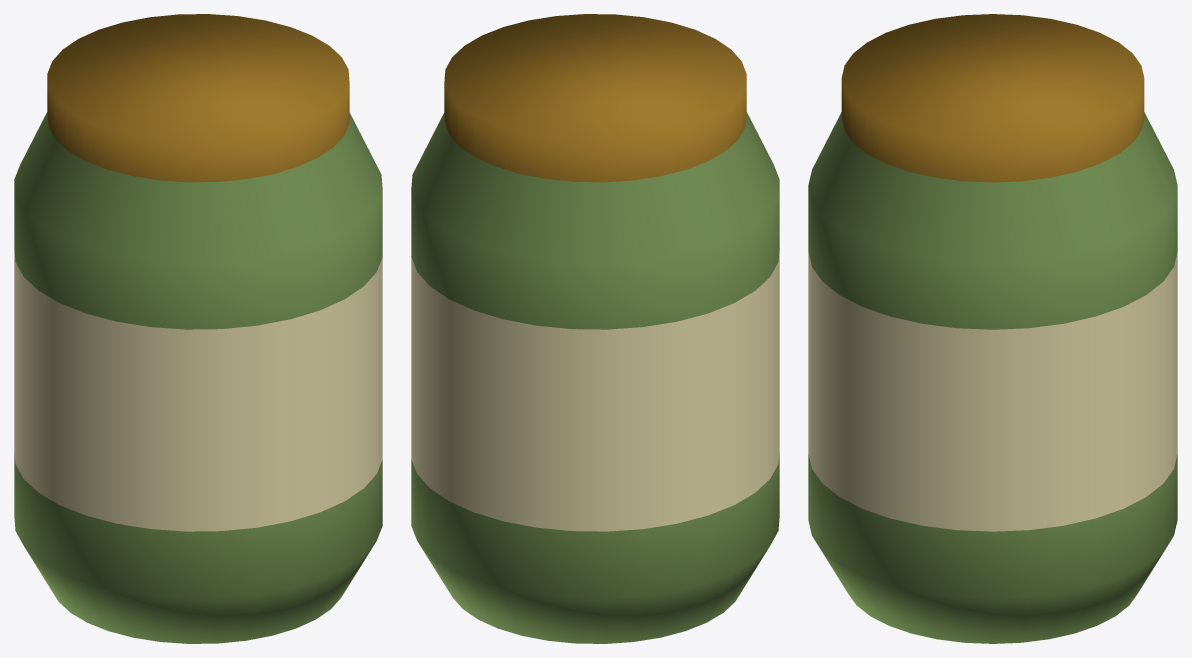
File: pickles.fbx
The picture shows the model from 3 angles, left to right: view 1: azimuth 30°, elevation 25°; view 2: azimuth 150°, elevation 25°; view 3: azimuth 270°, elevation 25°; orthographic projection.
Parts seen in each view (by area): view 1: Cylinder; view 2: Cylinder; view 3: Cylinder.
Boxes of the visible parts, left/top/right/bottom form: Cylinder: left=14, top=14, right=382, bottom=643; Cylinder: left=411, top=14, right=779, bottom=643; Cylinder: left=808, top=14, right=1177, bottom=643.
Bounding box in the file's own units: 200 × 301 × 200.
